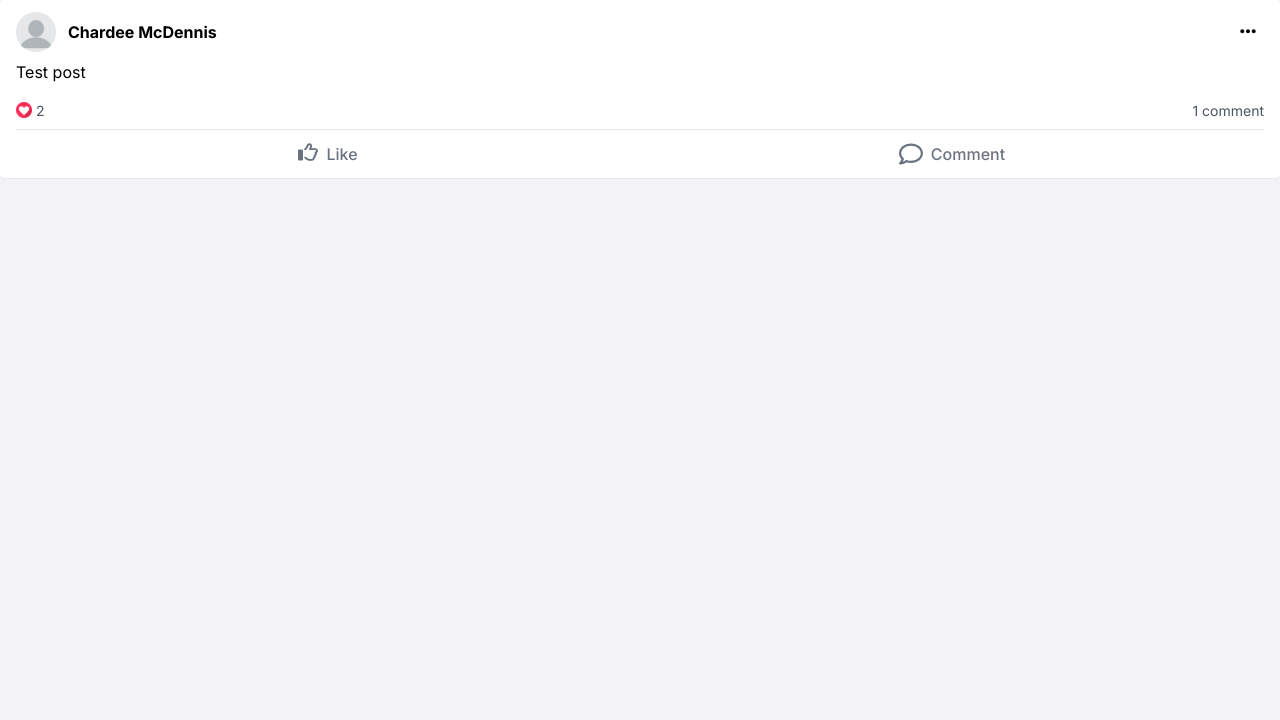
Test: Post menu display tests › Closes menu when either menu btn is pressed
# Open menu
Click the button with test id "menu" at (1248, 31), box 1232,18 -> 1264,44
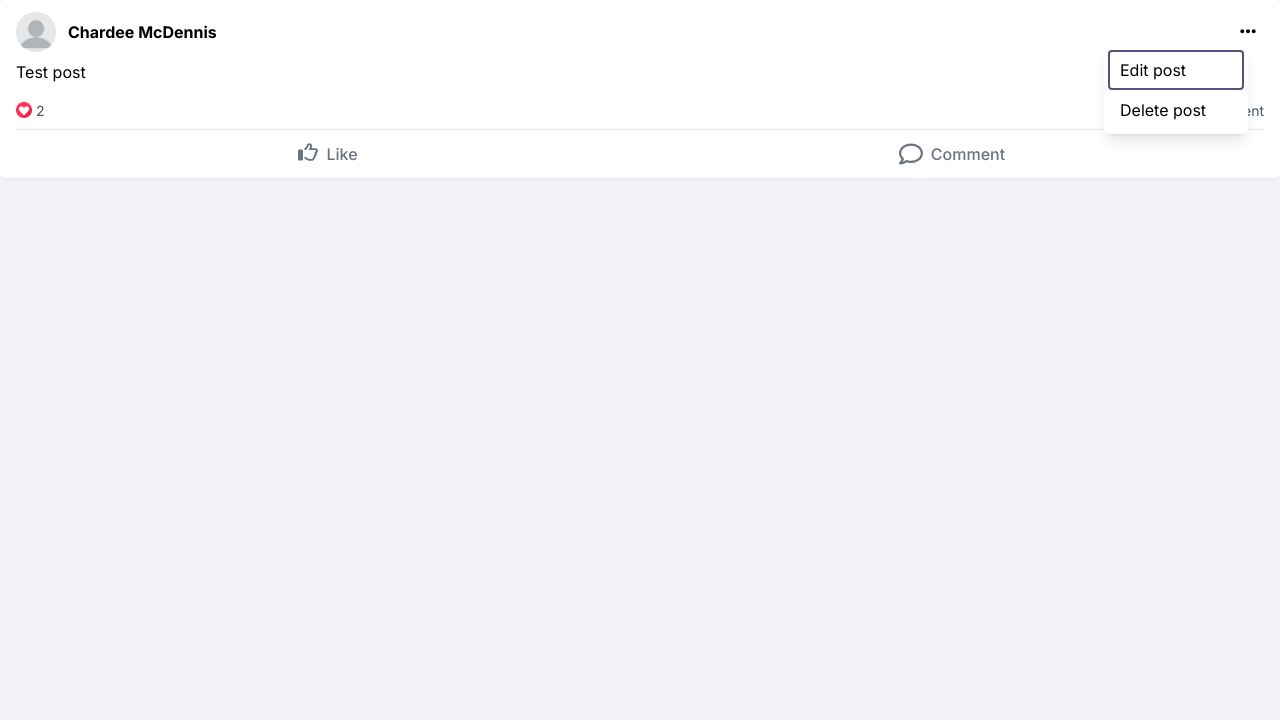
Click the menu item "Edit post" at (1176, 70), box 1108,50 -> 1244,90
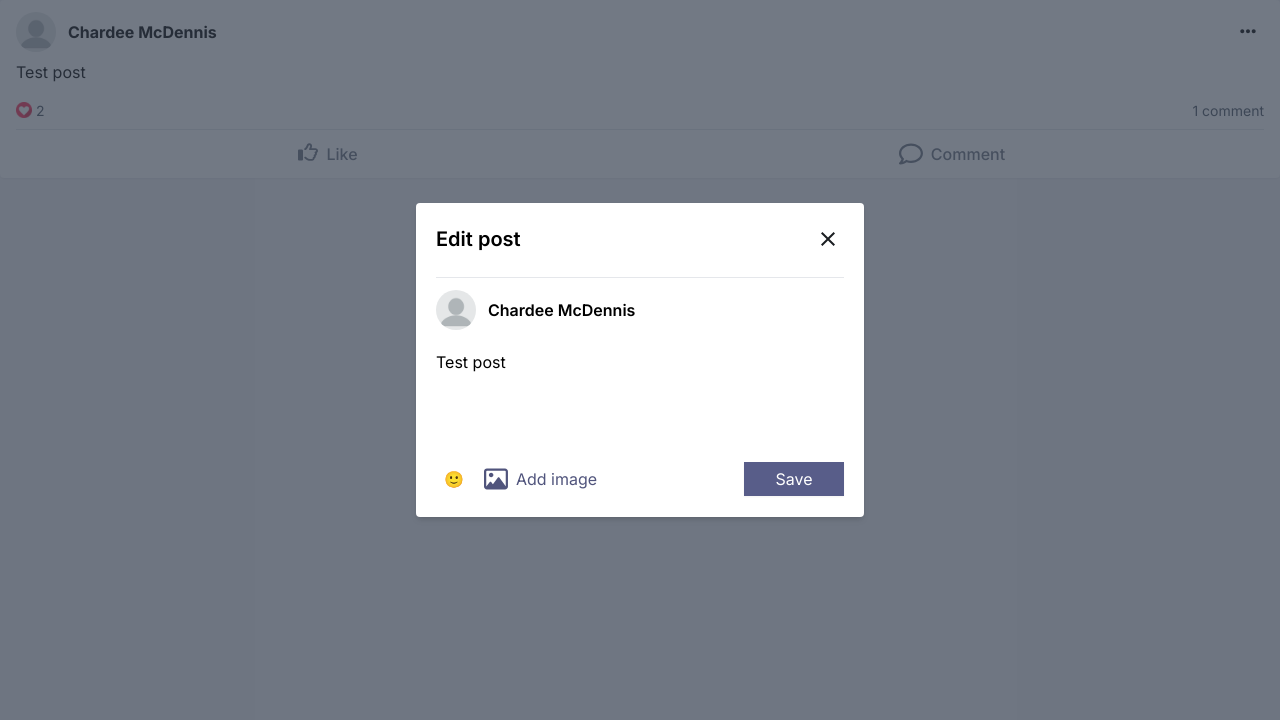
Expected: the menu with test id "dropdown" is gone
